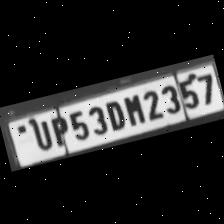2: (139, 84, 164, 120)
3: (83, 100, 109, 136), (156, 79, 180, 115)
5: (173, 72, 201, 110), (63, 105, 90, 142)
7: (192, 68, 218, 106)
D: (100, 95, 125, 131)
M: (119, 90, 146, 127)
P: (46, 111, 72, 148)
U: (24, 114, 54, 153)
